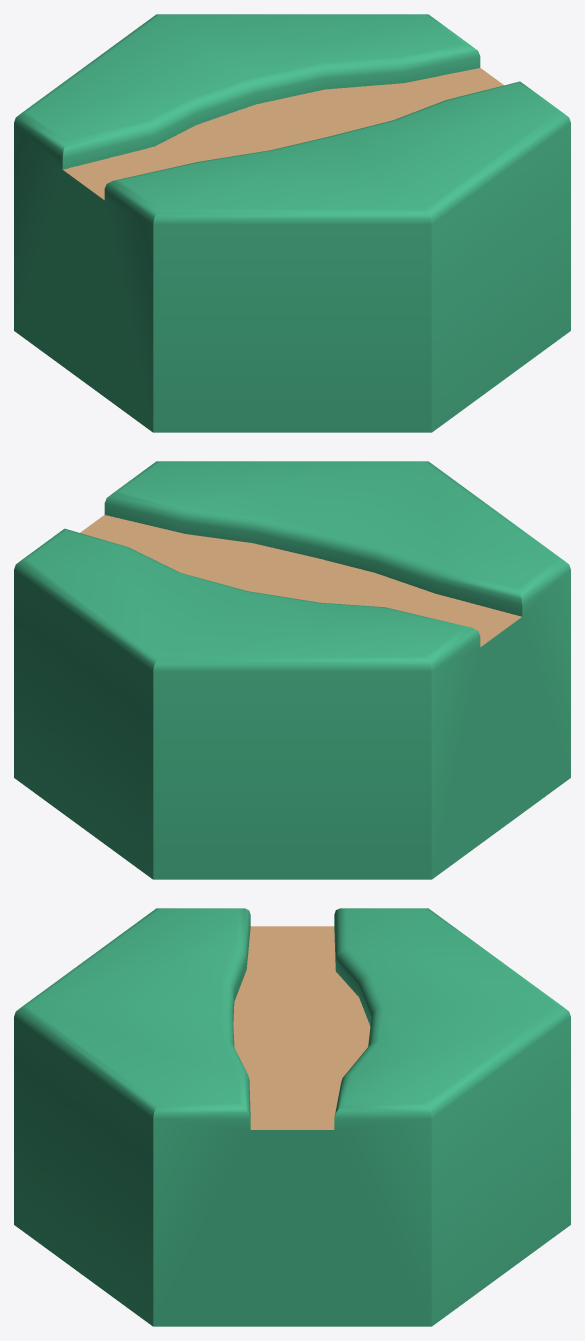
Rendered from hex_forest_roadB.glb.
The picture shows the model from 3 angles, top to bottom: view 1: azimuth 30°, elevation 25°; view 2: azimuth 150°, elevation 25°; view 3: azimuth 270°, elevation 25°; orthographic projection.
Parts seen in each view (by area): view 1: hex_forest_roadB; view 2: hex_forest_roadB; view 3: hex_forest_roadB.
Boxes of the visible parts, box(x1,y1,x2,y2) form: hex_forest_roadB: box(14, 14, 570, 432); hex_forest_roadB: box(14, 461, 570, 879); hex_forest_roadB: box(14, 908, 570, 1326).
Bounding box in the file's own units: 2 × 1 × 2.31.
